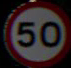Speed limit: (8, 5, 65, 57)
